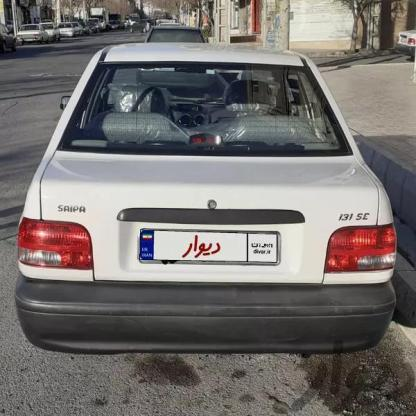Car: (2, 42, 399, 367), (118, 21, 215, 46), (17, 21, 49, 50), (54, 22, 80, 36)
